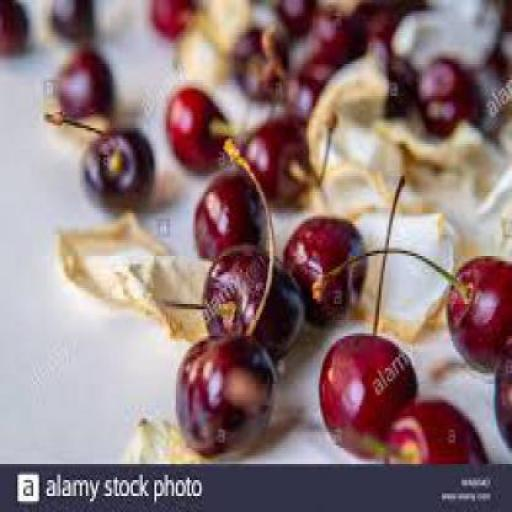biodegradable: (316, 173, 416, 453), (309, 242, 509, 373), (56, 208, 207, 336), (353, 202, 452, 333), (174, 330, 274, 456), (202, 237, 304, 355), (375, 109, 510, 197), (43, 110, 153, 208), (311, 38, 383, 184), (334, 398, 487, 462), (281, 213, 366, 322), (194, 170, 264, 253), (236, 118, 306, 200), (412, 56, 482, 134), (120, 416, 206, 462), (232, 24, 286, 94), (170, 29, 232, 85), (56, 48, 110, 112), (309, 0, 362, 64), (195, 0, 250, 50), (363, 0, 414, 50), (270, 62, 321, 112), (292, 39, 336, 96), (492, 328, 511, 446), (379, 50, 415, 112), (47, 0, 95, 41), (0, 0, 31, 54), (273, 0, 312, 34), (150, 0, 192, 30)
